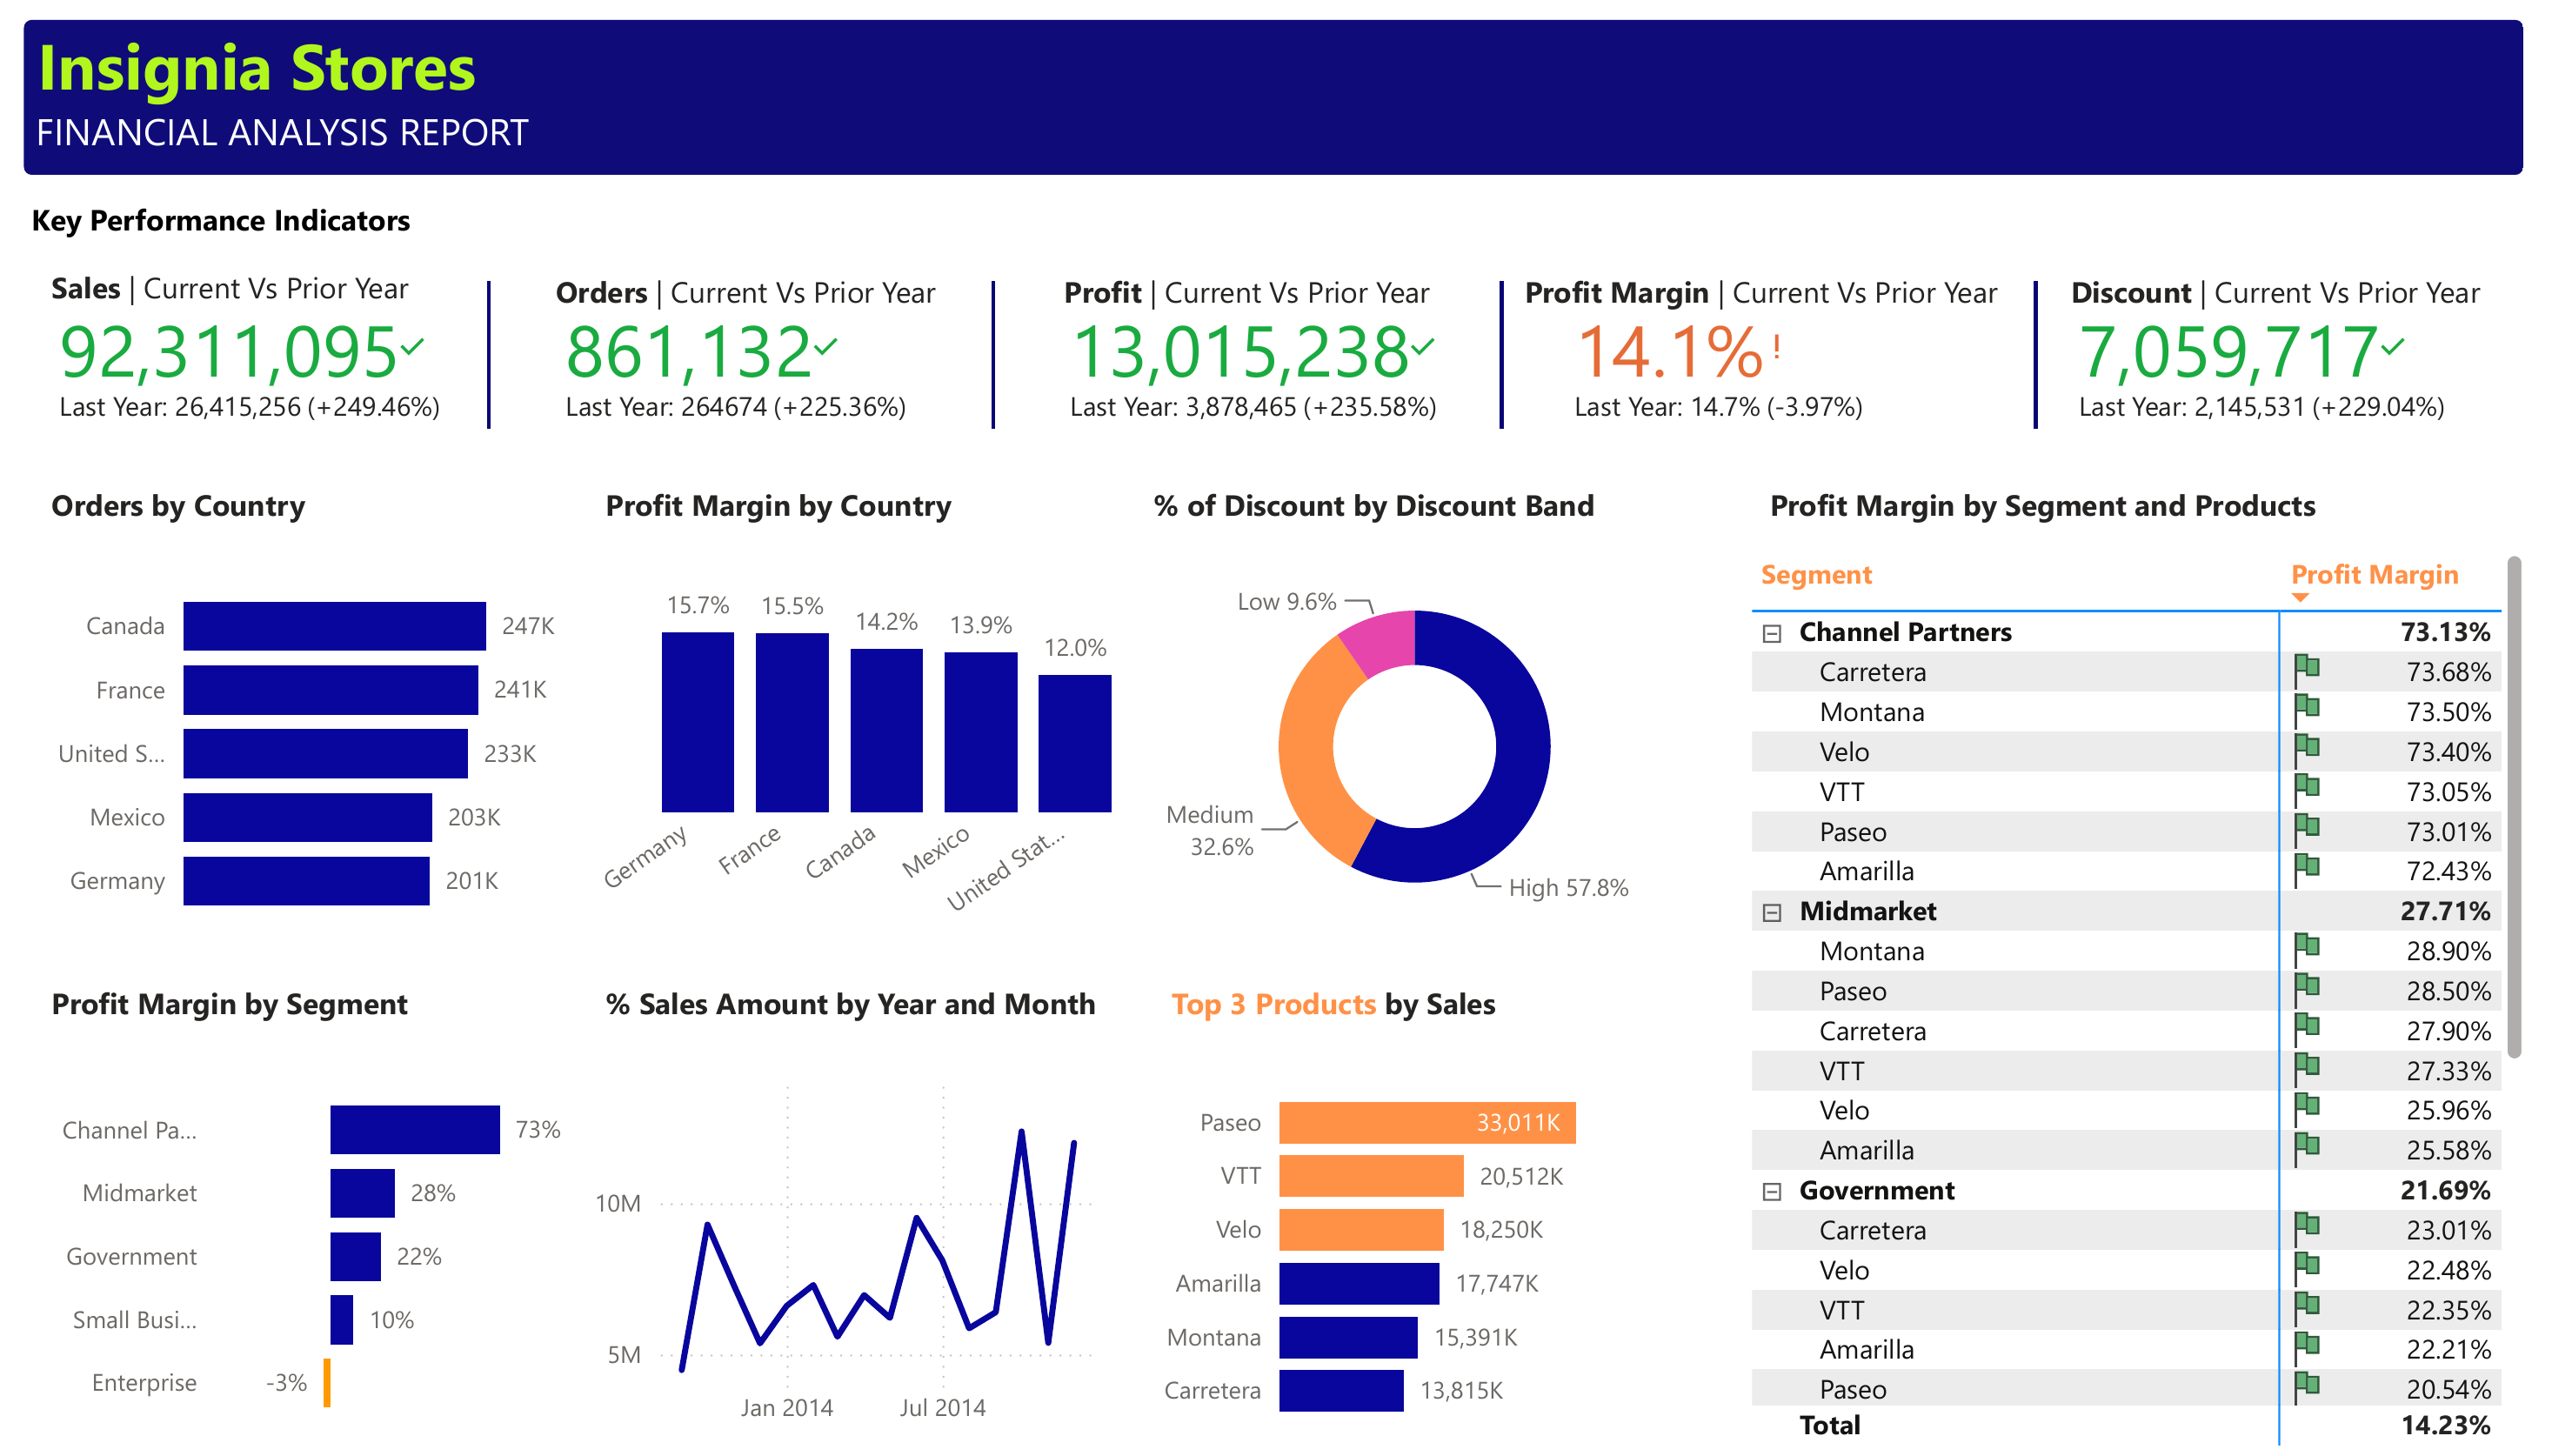

Layout of this report page (visuals, bound fields, positions):
{"tool":"powerbi","page":{"name":"Visuals","canvas":[1280,720],"ordinal":0},"visuals":[{"type":"shape","box":[12.3,5.4,1253.8,77.7],"z":0},{"type":"shape","box":[12.3,89.6,1253.8,35],"z":1000},{"type":"shape","box":[12.2,130,1254.4,90],"z":2000},{"type":"shape","box":[11.5,272,273.1,196.2],"z":3000},{"type":"shape","box":[13.7,524.2,273.1,196.2],"z":4000},{"type":"shape","box":[292.5,272.5,275,196.2],"z":5000},{"type":"shape","box":[292.3,524.2,274.4,196.2],"z":6000},{"type":"shape","box":[572.5,272.5,272.5,196.2],"z":7000},{"type":"shape","box":[572.2,524.2,273.1,196.2],"z":8000},{"type":"shape","box":[292.5,232.5,272.5,35],"z":9000},{"type":"shape","box":[11.2,232,273.8,35],"z":10000},{"type":"shape","box":[572.5,232.5,272.5,35],"z":11000},{"type":"shape","box":[13.8,483.1,272.3,34.6],"z":12000},{"type":"shape","box":[293.1,483.1,272.3,34.6],"z":13000},{"type":"shape","box":[572.3,483.1,272.3,34.6],"z":14000},{"type":"shape","box":[878.8,232.5,387.5,35],"z":15000},{"type":"textbox","box":[13.8,0,388.8,53.8],"z":16000},{"type":"textbox","box":[13.3,43.3,388.9,55.6],"z":17000},{"type":"textbox","box":[11.1,90,316.7,51.1],"z":18000},{"type":"kpi","fields":{"Indicator":["Analysis.Sales Amount"],"TrendLine":["Date Table.Year"],"Goal":["Analysis.Sales Amount LY"]},"box":[17.4,136,228.6,84.3],"z":19000},{"type":"textbox","box":[21.4,124.3,224.3,51.4],"z":20000},{"type":"shape","box":[111.4,135.7,268.6,74.3],"z":21000},{"type":"kpi","fields":{"Indicator":["Analysis.Orders"],"TrendLine":["Date Table.Year"],"Goal":["Analysis.Orders LY"]},"box":[270.6,136,228.6,84.3],"z":22000},{"type":"kpi","fields":{"Indicator":["Analysis.Profit"],"TrendLine":["Date Table.Year"],"Goal":["Analysis.Profit LY"]},"box":[523.9,136,228.6,84.3],"z":23000},{"type":"kpi","fields":{"TrendLine":["Date Table.Year"],"Indicator":["Analysis.Profit Margin"],"Goal":["Analysis.Profit Margin LY"]},"box":[777.1,136,228.6,84.3],"z":24000},{"type":"kpi","fields":{"TrendLine":["Date Table.Year"],"Indicator":["Analysis.Discount offered"],"Goal":["Analysis.Discount Offered LY"]},"box":[1030.3,136,228.6,84.3],"z":25000},{"type":"textbox","box":[274.3,125.7,224.3,51.4],"z":26000},{"type":"textbox","box":[528.6,125.7,224.3,51.4],"z":27000},{"type":"textbox","box":[760,125.7,252.9,51.4],"z":28000},{"type":"textbox","box":[1034.3,125.7,224.3,51.4],"z":29000},{"type":"shape","box":[364.3,135.7,268.6,74.3],"z":30000},{"type":"shape","box":[618.6,135.7,268.6,74.3],"z":31000},{"type":"shape","box":[887.1,135.7,268.6,74.3],"z":32000},{"type":"barChart","fields":{"Category":["Financials.Country"],"Y":["Analysis.Orders"]},"box":[11.4,271.4,272.9,197.1],"z":33000},{"type":"textbox","box":[21.4,232.9,205.7,51.4],"z":34000},{"type":"clusteredColumnChart","fields":{"Y":["Analysis.Profit Margin"],"Category":["Financials.Country"]},"box":[292.9,272.9,290,195.7],"z":35000},{"type":"textbox","box":[298.6,232.9,232.9,51.4],"z":36000},{"type":"donutChart","fields":{"Category":["Financials.Discount Band"],"Y":["Analysis.Discount offered"]},"box":[574.3,271.4,271.4,197.1],"z":37000},{"type":"textbox","box":[574.3,232.9,248.6,51.4],"z":38000},{"type":"barChart","fields":{"Category":["Financials.Segment"],"Y":["Analysis.Profit Margin"]},"box":[14.3,524.3,272.9,195.7],"z":39000},{"type":"lineChart","fields":{"Category":["Date Table.Date.Variation.Date Hierarchy.Year","Date Table.Date.Variation.Date Hierarchy.Month"],"Y":["Analysis.Sales Amount"]},"box":[292.9,524.3,272.9,195.7],"z":40000},{"type":"barChart","fields":{"Y":["Analysis.Sales Amount"],"Category":["Financials.Product"]},"box":[574.3,524.3,271.4,195.7],"z":41000},{"type":"textbox","box":[582.9,482.9,232.9,51.4],"z":42000},{"type":"textbox","box":[298.6,482.9,261.4,51.4],"z":43000},{"type":"textbox","box":[21.4,482.9,232.9,51.4],"z":44000},{"type":"pivotTable","fields":{"Rows":["Financials.Segment","Financials.Product"],"Values":["Analysis.Profit Margin"]},"box":[878.9,273.3,386.7,446.7],"z":45000},{"type":"textbox","box":[878.9,233.3,317.8,51.1],"z":46000}]}

Visuals, with their boxes in screenshot pixels (x1, y1, x2, y2), scaled from the page's 1280x720 canvas onto the 2552x1456 screenshot:
shape: Rect(24, 11, 2524, 168)
shape: Rect(24, 181, 2524, 252)
shape: Rect(24, 263, 2525, 445)
shape: Rect(23, 550, 567, 947)
shape: Rect(27, 1060, 571, 1455)
shape: Rect(583, 551, 1132, 948)
shape: Rect(583, 1060, 1130, 1455)
shape: Rect(1141, 551, 1685, 948)
shape: Rect(1141, 1060, 1686, 1455)
shape: Rect(583, 471, 1126, 541)
shape: Rect(23, 469, 568, 540)
shape: Rect(1141, 471, 1685, 541)
shape: Rect(28, 977, 571, 1047)
shape: Rect(585, 977, 1127, 1047)
shape: Rect(1141, 977, 1684, 1047)
shape: Rect(1752, 471, 2525, 541)
textbox: Rect(28, 0, 803, 109)
textbox: Rect(26, 88, 802, 200)
textbox: Rect(22, 182, 653, 285)
kpi - Analysis.Sales Amount x Date Table.Year: Rect(35, 275, 491, 445)
textbox: Rect(43, 251, 490, 356)
shape: Rect(222, 275, 758, 424)
kpi - Analysis.Orders x Date Table.Year: Rect(539, 275, 995, 445)
kpi - Analysis.Profit x Date Table.Year: Rect(1045, 275, 1500, 445)
kpi - Date Table.Year x Analysis.Profit Margin: Rect(1549, 275, 2005, 445)
kpi - Date Table.Year x Analysis.Discount offered: Rect(2054, 275, 2510, 445)
textbox: Rect(547, 254, 994, 358)
textbox: Rect(1054, 254, 1501, 358)
textbox: Rect(1515, 254, 2020, 358)
textbox: Rect(2062, 254, 2509, 358)
shape: Rect(726, 275, 1262, 424)
shape: Rect(1233, 275, 1769, 424)
shape: Rect(1768, 275, 2304, 424)
barChart - Financials.Country x Analysis.Orders: Rect(23, 549, 567, 947)
textbox: Rect(43, 471, 453, 575)
clusteredColumnChart - Analysis.Profit Margin x Financials.Country: Rect(584, 551, 1162, 947)
textbox: Rect(595, 471, 1059, 575)
donutChart - Financials.Discount Band x Analysis.Discount offered: Rect(1145, 549, 1687, 947)
textbox: Rect(1145, 471, 1640, 575)
barChart - Financials.Segment x Analysis.Profit Margin: Rect(29, 1060, 572, 1455)
lineChart - Date Table.Date.Variation.Date Hierarchy.Year x Date Table.Date.Variation.Date Hierarchy.Month: Rect(584, 1060, 1128, 1455)
barChart - Analysis.Sales Amount x Financials.Product: Rect(1145, 1060, 1687, 1455)
textbox: Rect(1162, 977, 1627, 1080)
textbox: Rect(595, 977, 1117, 1080)
textbox: Rect(43, 977, 507, 1080)
pivotTable - Financials.Segment x Financials.Product: Rect(1753, 552, 2523, 1455)
textbox: Rect(1753, 471, 2386, 575)
